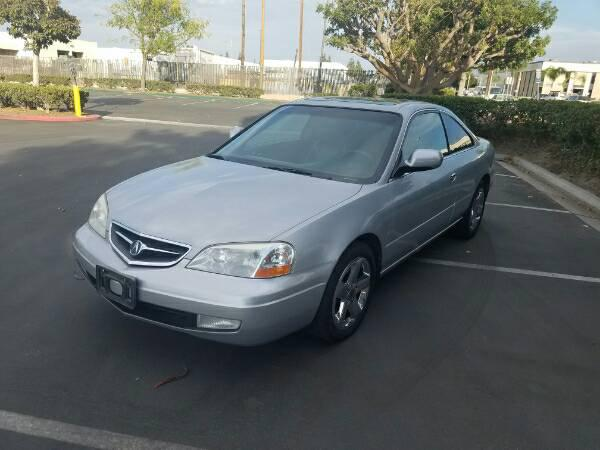acura: (70, 92, 499, 361)
